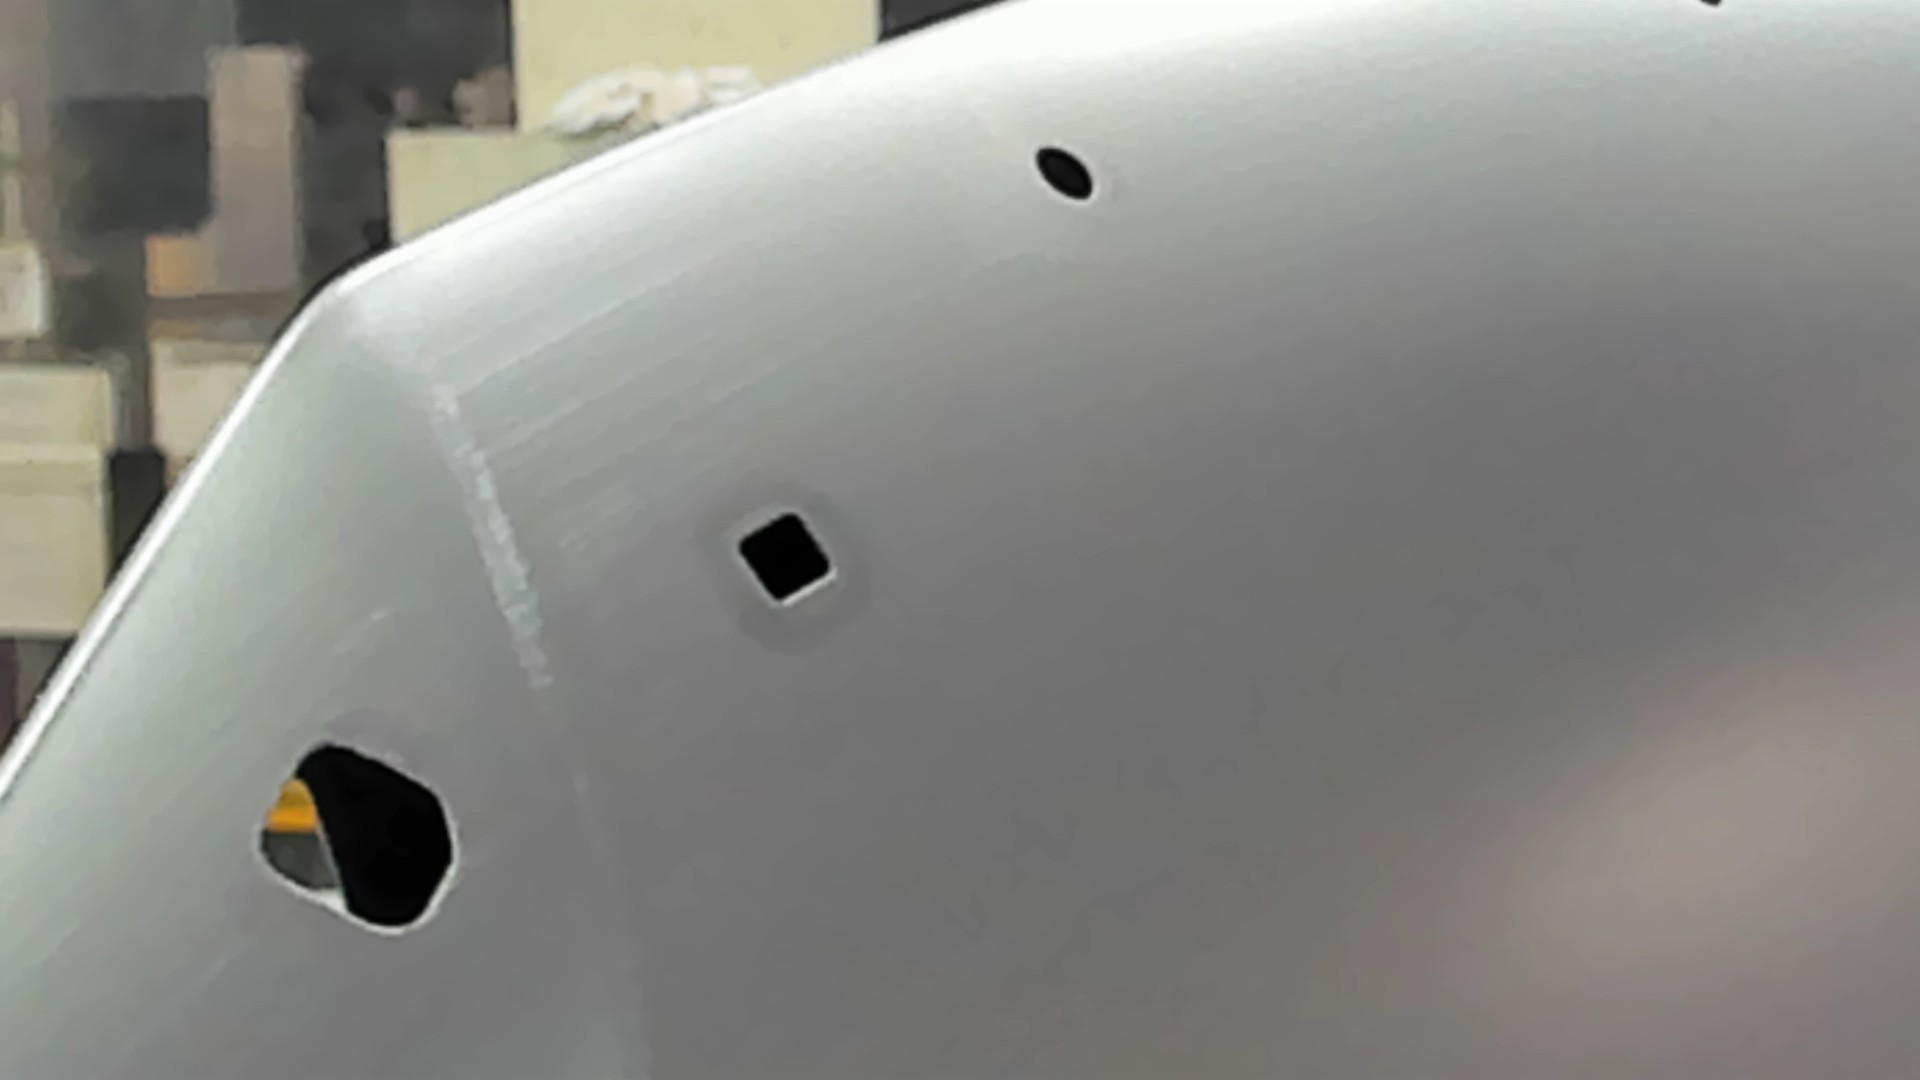capo: (843, 210, 1920, 1080)
chico: (1029, 141, 1101, 204)
grande: (247, 727, 462, 945)
mediano: (724, 505, 841, 611)
